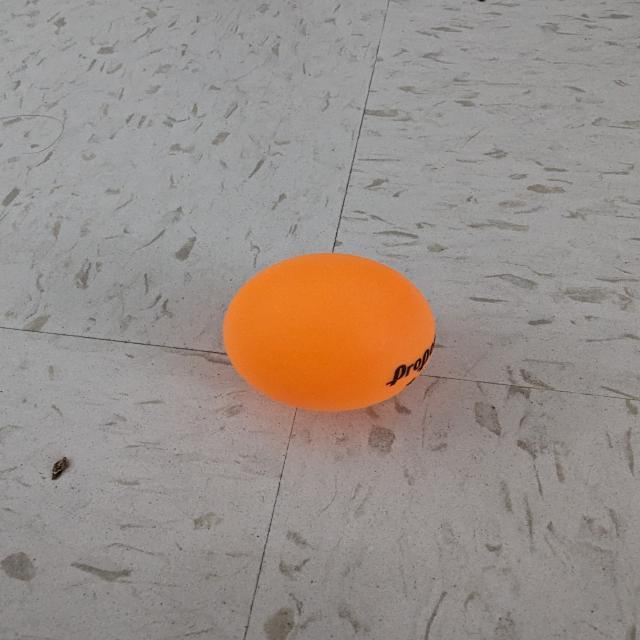ping-pong-ball: (217, 248, 440, 416)
